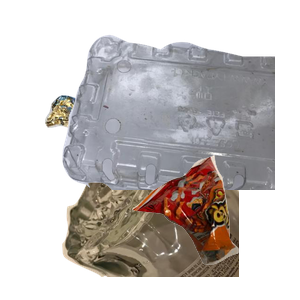glass: (60, 120, 300, 300)
metal: (42, 72, 239, 229)
plastic: (60, 32, 300, 212)
trash: (130, 153, 300, 300)
